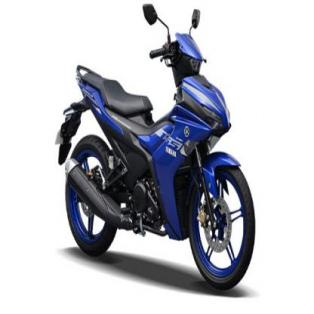Motocicleta: (52, 0, 257, 294)
